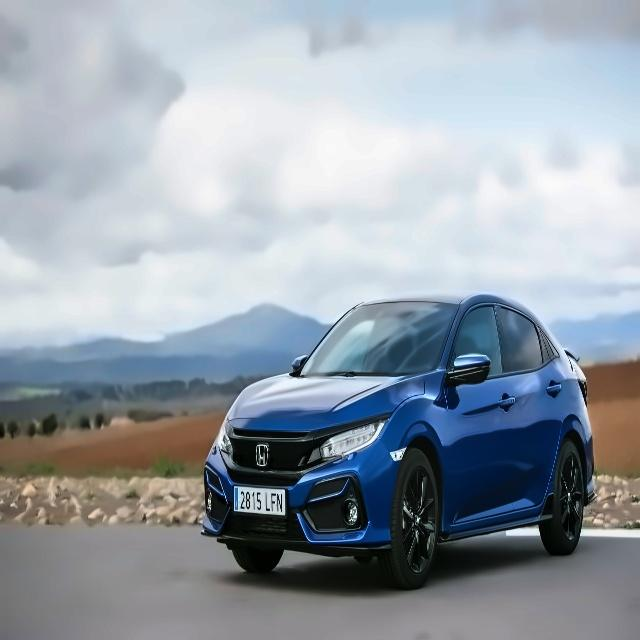Car hood: (224, 371, 428, 433)
Fender - -F-L-: (378, 365, 454, 536)
Fender - -R-L-: (547, 365, 598, 515)
Front bumper: (193, 449, 401, 557)
Headlight - -L-: (315, 414, 388, 464)
Headlight - -R-: (207, 416, 238, 459)
Passenger-s door - -F-L-: (454, 299, 518, 530)
Passenger-s door - -R-L-: (503, 302, 572, 514)
Rear bumper: (578, 436, 605, 511)
Rear light - -L-: (571, 355, 592, 407)
Side bumper - -L-: (433, 492, 558, 545), (435, 500, 550, 547)
Side mirror - -L-: (441, 349, 494, 389)
Side mirror - -R-: (289, 350, 317, 380)
